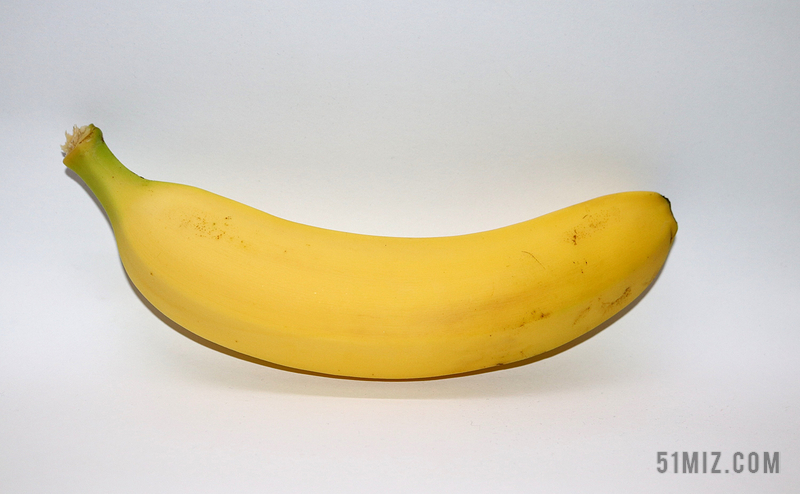banana: (43, 114, 700, 395)
